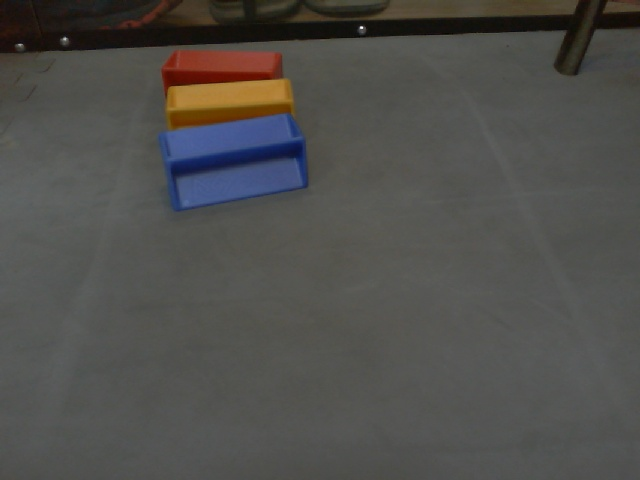BlueSample: (157, 113, 311, 213)
RedSample: (161, 48, 284, 93)
YellowSample: (164, 78, 295, 128)
